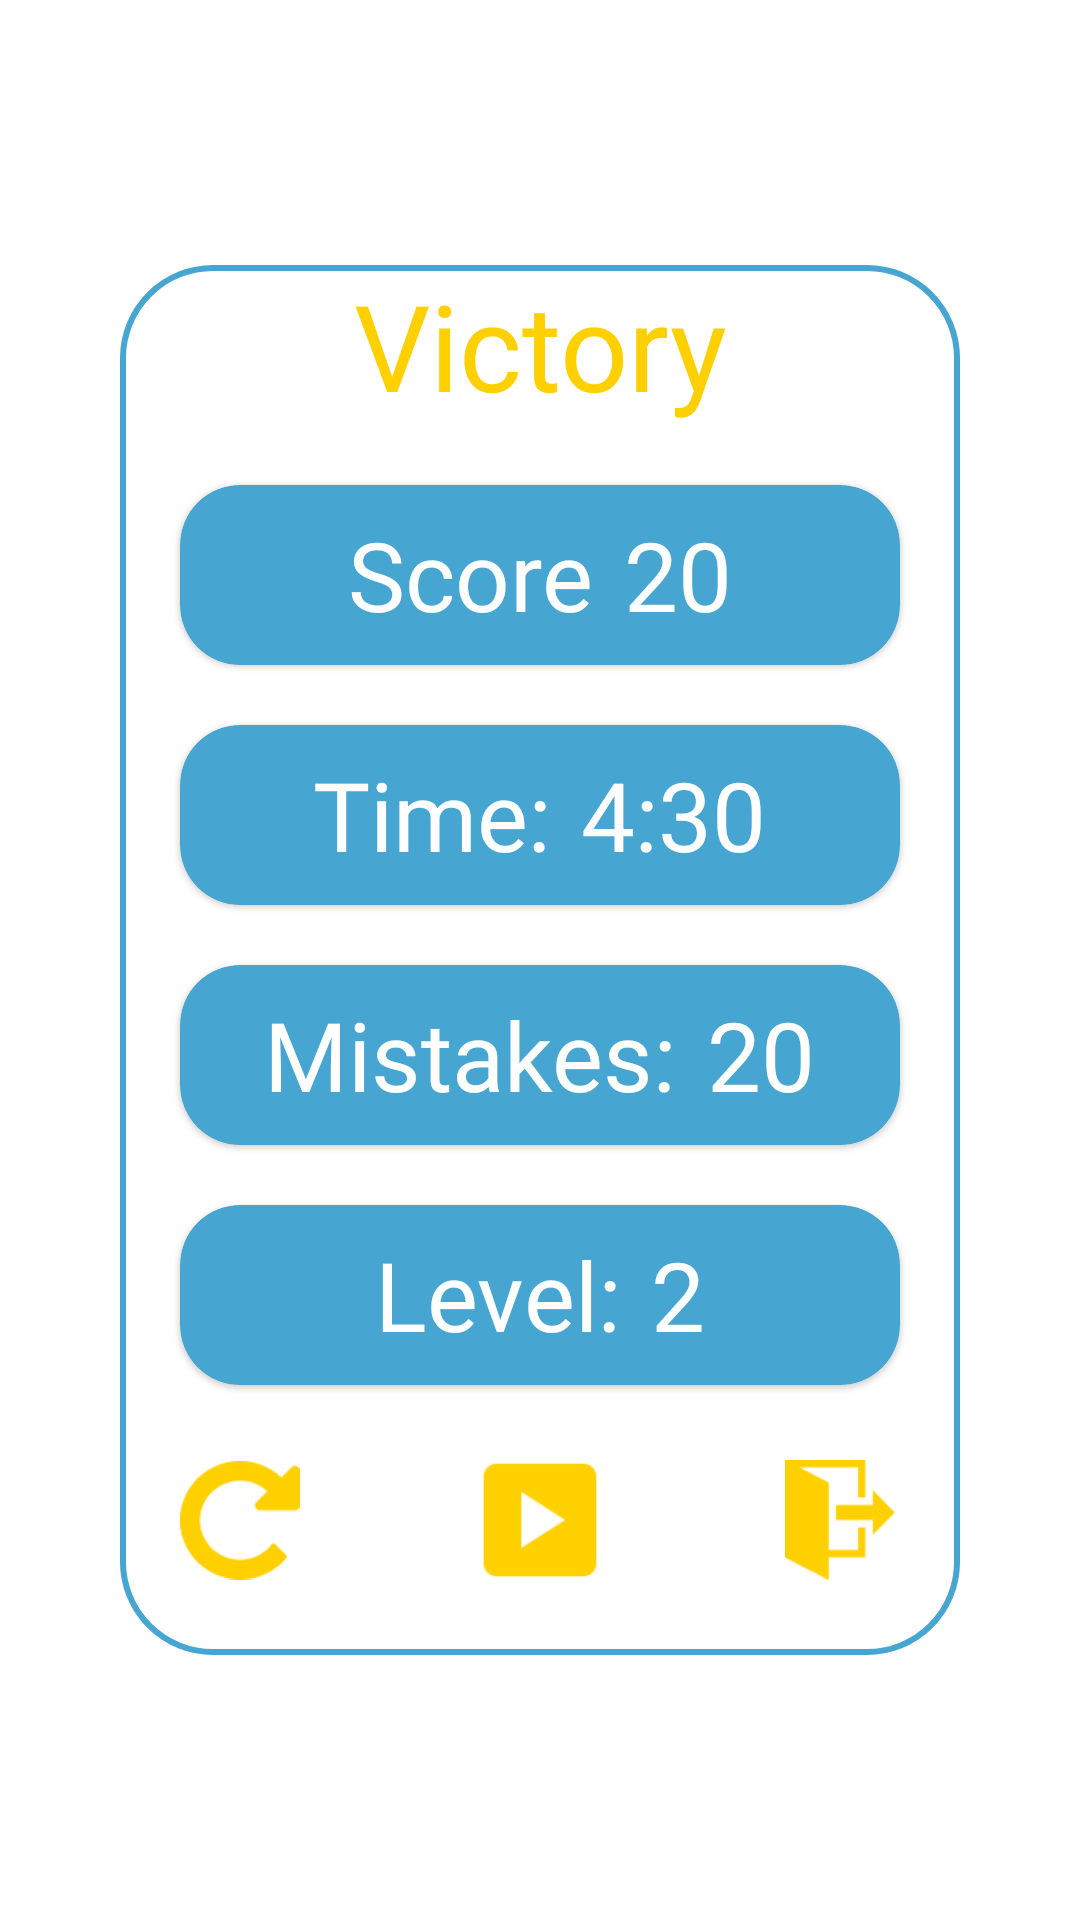

Icons on this 1080 x 1920 Android screen, each with the point to tap as (x=x, y=y):
exit game: (x=840, y=1520)
next: (x=540, y=1520)
restart lvl: (x=240, y=1520)
